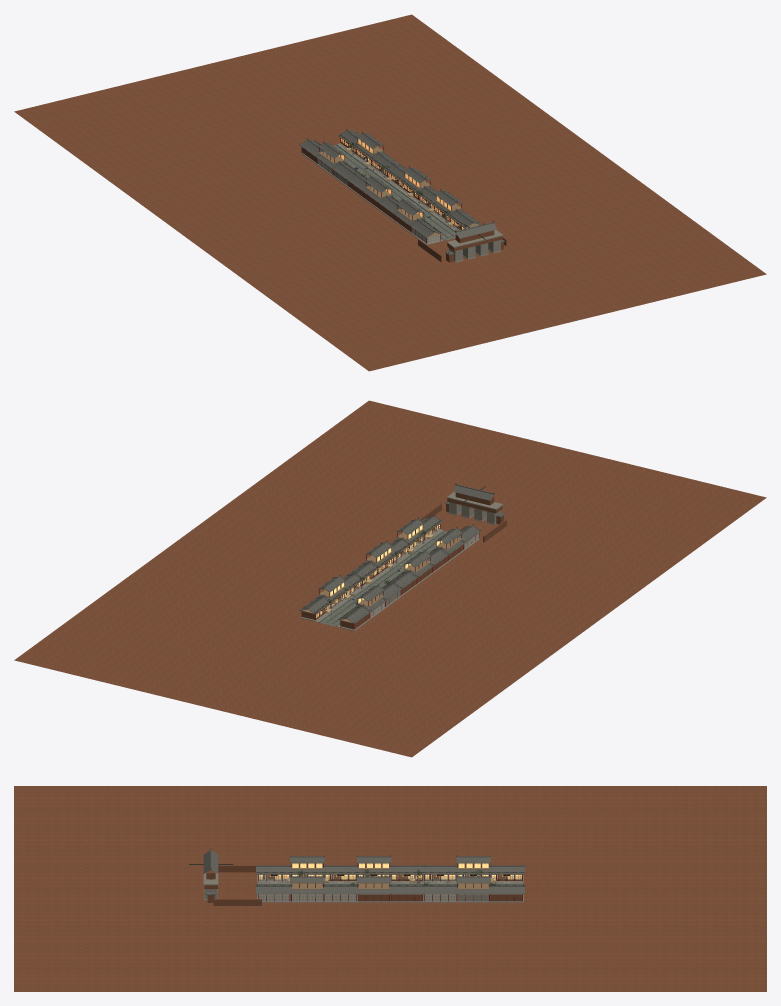
Rendered from street_preview.gltf.
3 views of the same model, one above another, from view 1: azimuth 30°, elevation 25°; view 2: azimuth 150°, elevation 25°; view 3: azimuth 270°, elevation 25° (orthographic). The views are drawn at different scales.
Parts seen in each view (by area): view 1: Surface, CityGate, dwelling_06, teahouse_01, smithy_04, brewery_06, persian_01, carpenter_04; view 2: Surface, CityGate, teahouse_01, smithy_04, dwelling_06, persian_01, brewery_06, carpenter_04; view 3: Surface, CityGate, carpenter_04, brewery_06, persian_01, smithy_04, dwelling_06, teahouse_01, book_00, dwelling_03, bakery_02, incense_05 (+6 smaller).
Part boxes in pixels (<box>): Surface: <box>14,14,766,371</box>; CityGate: <box>418,221,506,262</box>; dwelling_06: <box>393,198,426,233</box>; teahouse_01: <box>315,140,348,175</box>; smithy_04: <box>362,175,395,210</box>; brewery_06: <box>432,188,465,222</box>; persian_01: <box>353,131,387,165</box>; carpenter_04: <box>401,165,434,200</box>; Surface: <box>14,400,766,757</box>; CityGate: <box>419,483,506,542</box>; teahouse_01: <box>354,584,387,619</box>; smithy_04: <box>401,549,434,584</box>; dwelling_06: <box>432,526,465,561</box>; persian_01: <box>315,574,348,609</box>; brewery_06: <box>393,517,427,548</box>; carpenter_04: <box>362,540,395,575</box>; Surface: <box>14,786,766,991</box>; CityGate: <box>189,848,261,905</box>; carpenter_04: <box>355,875,392,902</box>; brewery_06: <box>289,874,325,902</box>; persian_01: <box>455,874,491,902</box>; smithy_04: <box>355,855,392,876</box>; dwelling_06: <box>289,854,325,876</box>; teahouse_01: <box>455,854,491,876</box>; book_00: <box>488,884,525,902</box>; dwelling_03: <box>388,884,425,902</box>; bakery_02: <box>422,884,458,902</box>; incense_05: <box>322,884,358,902</box>.
Size of the model in its own units: 220 by 15.39 by 340.
31 materials, 31 textured.
